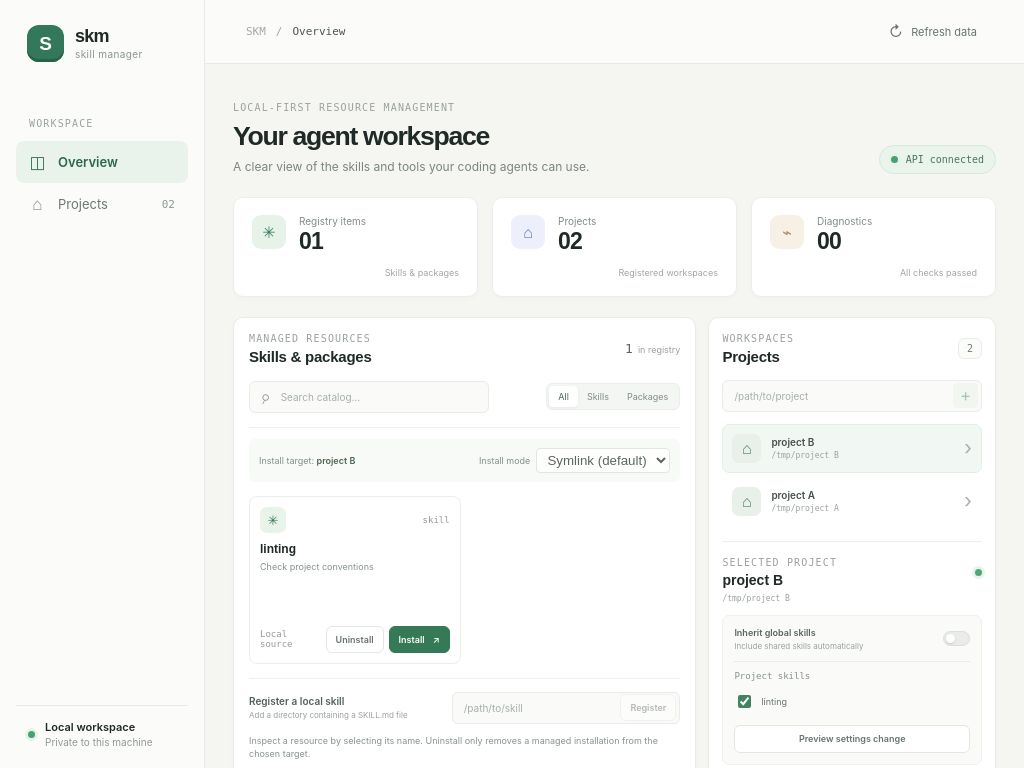
Test: App workflows › browses a skill, selects its project, previews, explicitly applies, and shows the verified installation
expect the number of elements with class "resource-card" is 1: met, box [249,496,461,664]
Click the option "⌂ project A /tmp/project A ›" at (852, 501), box [722,477,982,526]
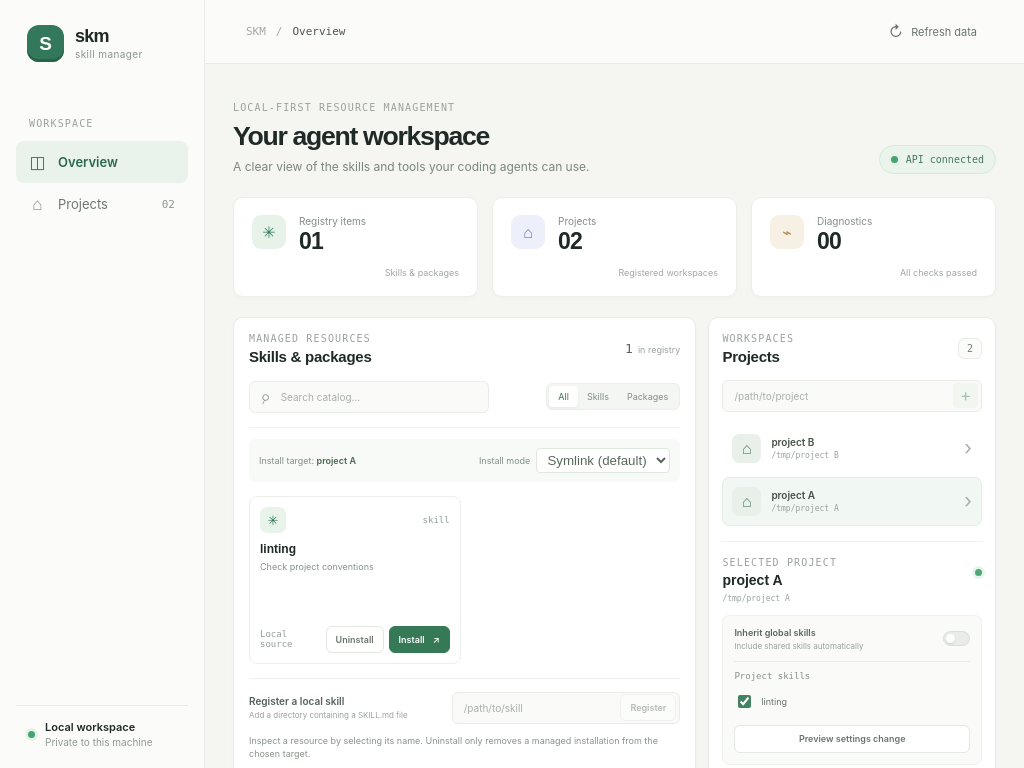
expect the element with class "install-toolbar" shows "project A": met, box [316,455,356,466]
Click the button with class "resource-title-button" at (278, 549), box [260,542,296,556]
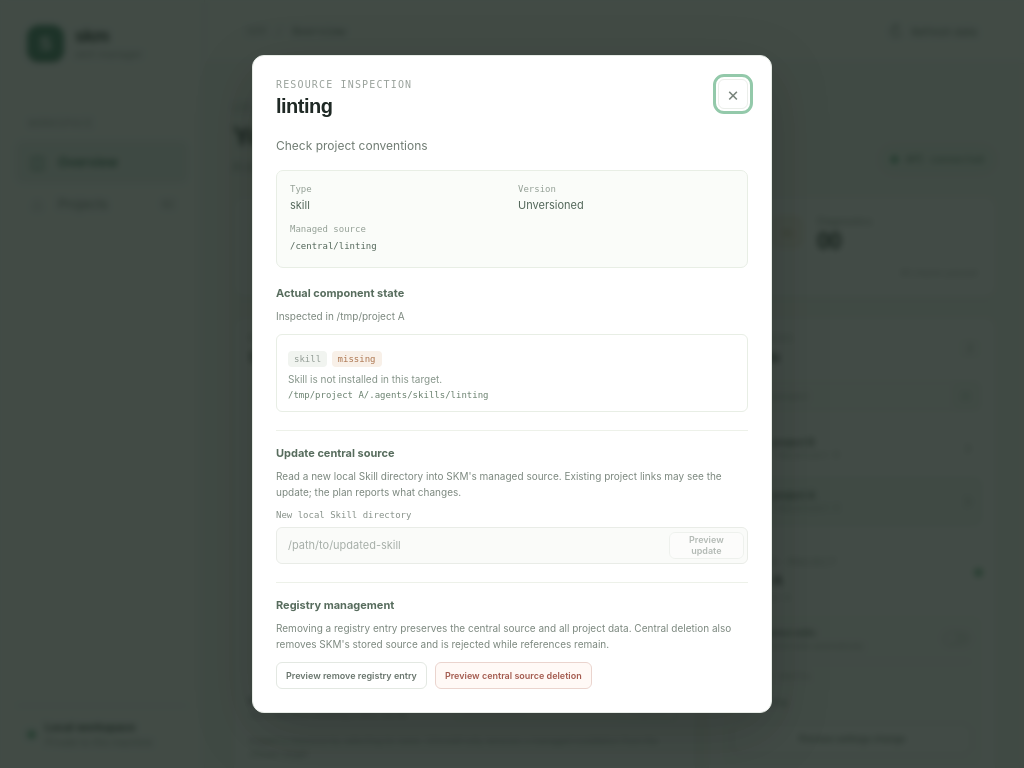
expect the dialog with class "resource-dialog" shows "Skill is not installed in this target.": met, box [288,373,442,385]
expect the element with class "inspection-paths" reads "/tmp/project A/.agents/skills/linting": met, box [288,390,488,400]
Click the button named "Close resource details" at (733, 94), box [718,79,748,109]
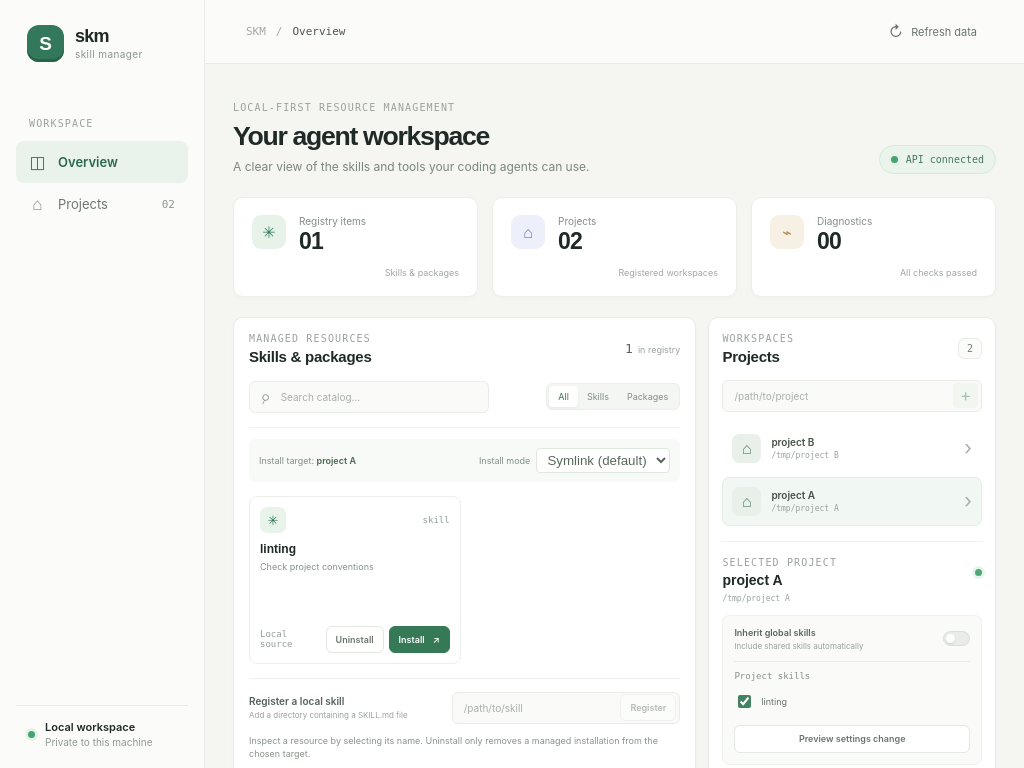
Click the button "Install ↗" at (419, 639), box [389,626,450,653]
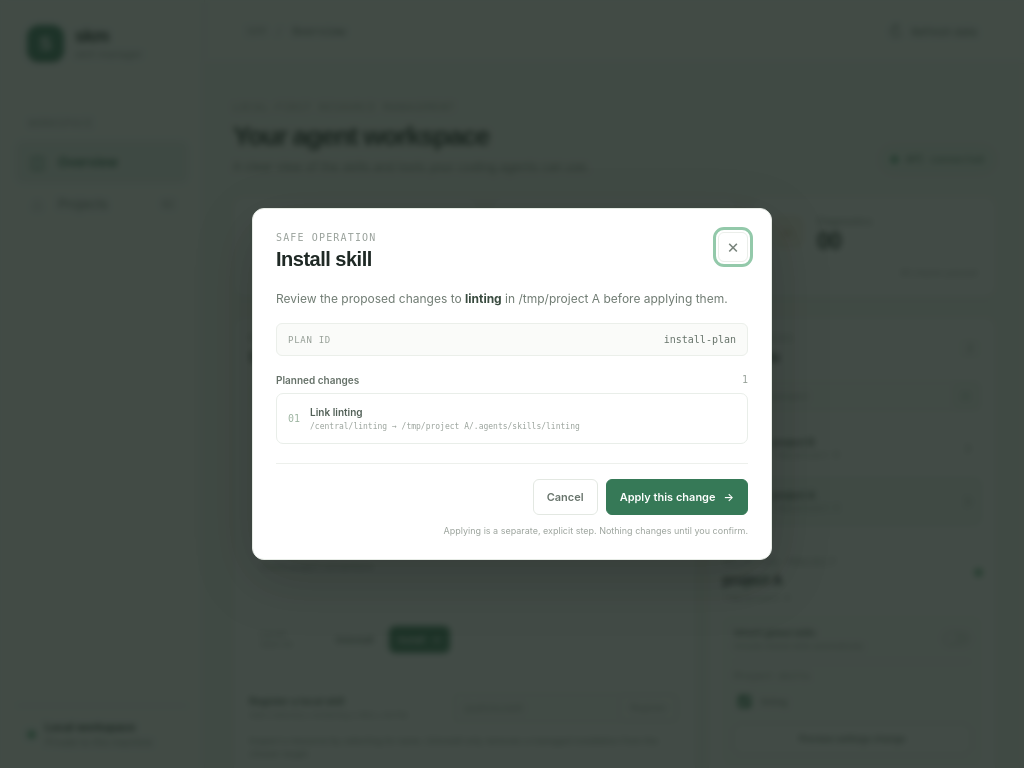
expect the dialog with class "operation-dialog" shows "Review the proposed changes": met, box [276,291,465,306]
expect the heading with id "operation-title" reads "Install skill": met, box [276,248,372,270]
Click the button "Apply this change →" at (677, 497), box [606,479,748,515]
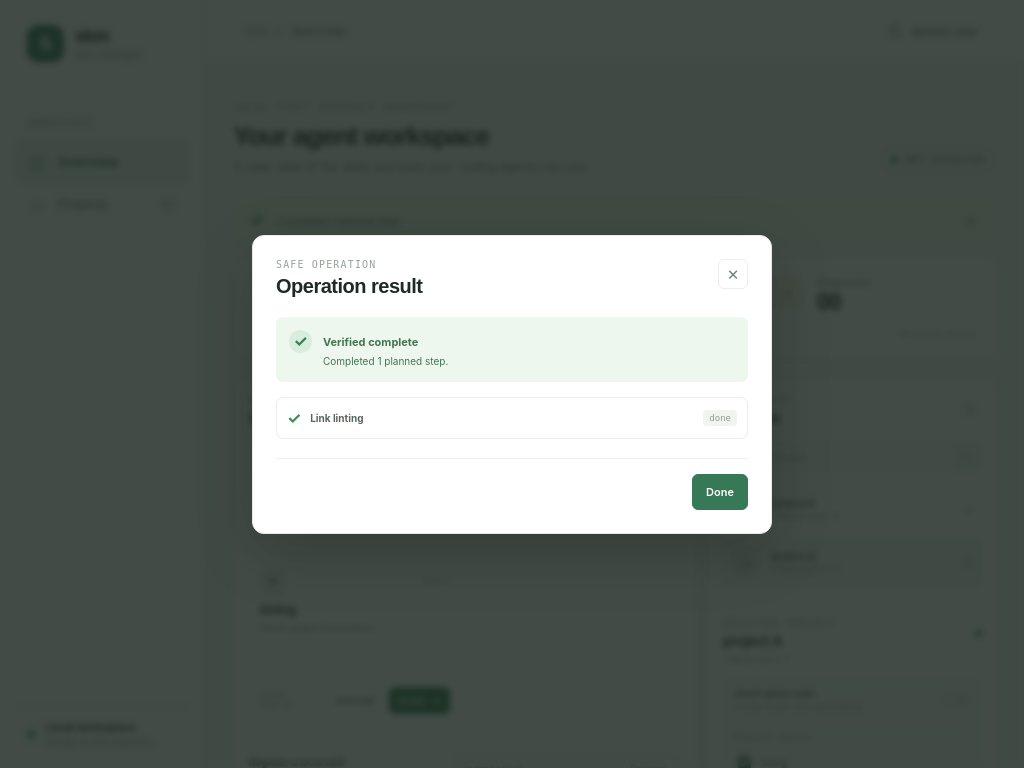
expect the dialog with class "operation-dialog" shows "Link linting": met, box [310,412,363,424]
expect the dialog with class "operation-dialog" shows "Verified complete": met, box [323,334,418,348]
